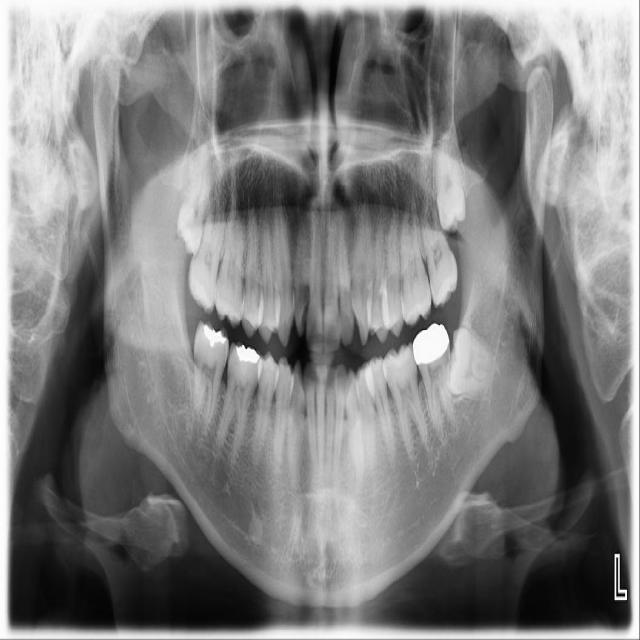3M ESPE Implant: (171, 143, 219, 258)
52: (400, 318, 460, 377), (217, 339, 268, 396), (187, 319, 235, 378)
73: (604, 564, 612, 576)
BioHorizons Implant: (414, 190, 464, 309)
BioLife Implant: (431, 127, 468, 235)
Biomet 3i Implant: (443, 325, 496, 398)
Blue Sky Bio Implant: (410, 321, 459, 438)
Caries: (183, 210, 228, 315)
Implant: (192, 321, 230, 432)
